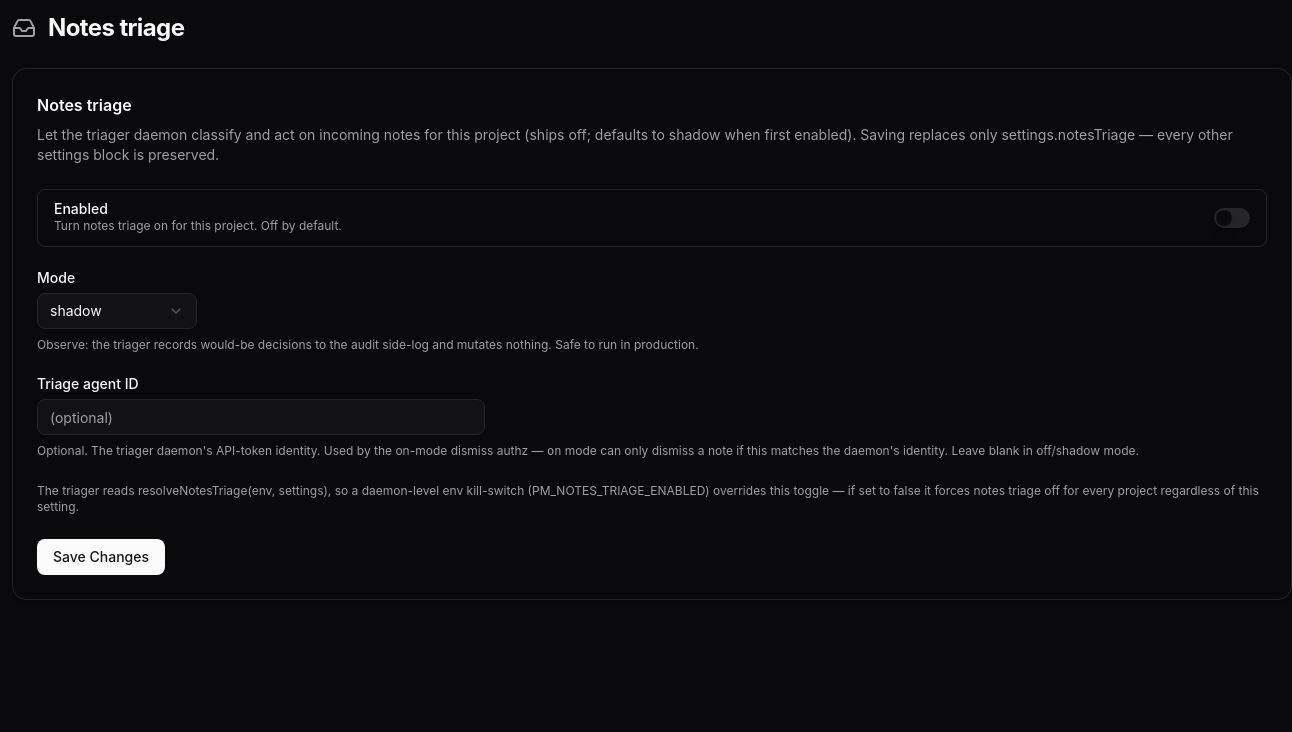
Test case: NotesTriagePage — mode select › renders off/shadow/on options and updates help text on select
The width and height of the screenshot is (1292, 732).
What coordinates should you click on to do the following:
click the dropdown named "Mode"
I would click on:
 (117, 311)
Its box is [37,293,197,329].
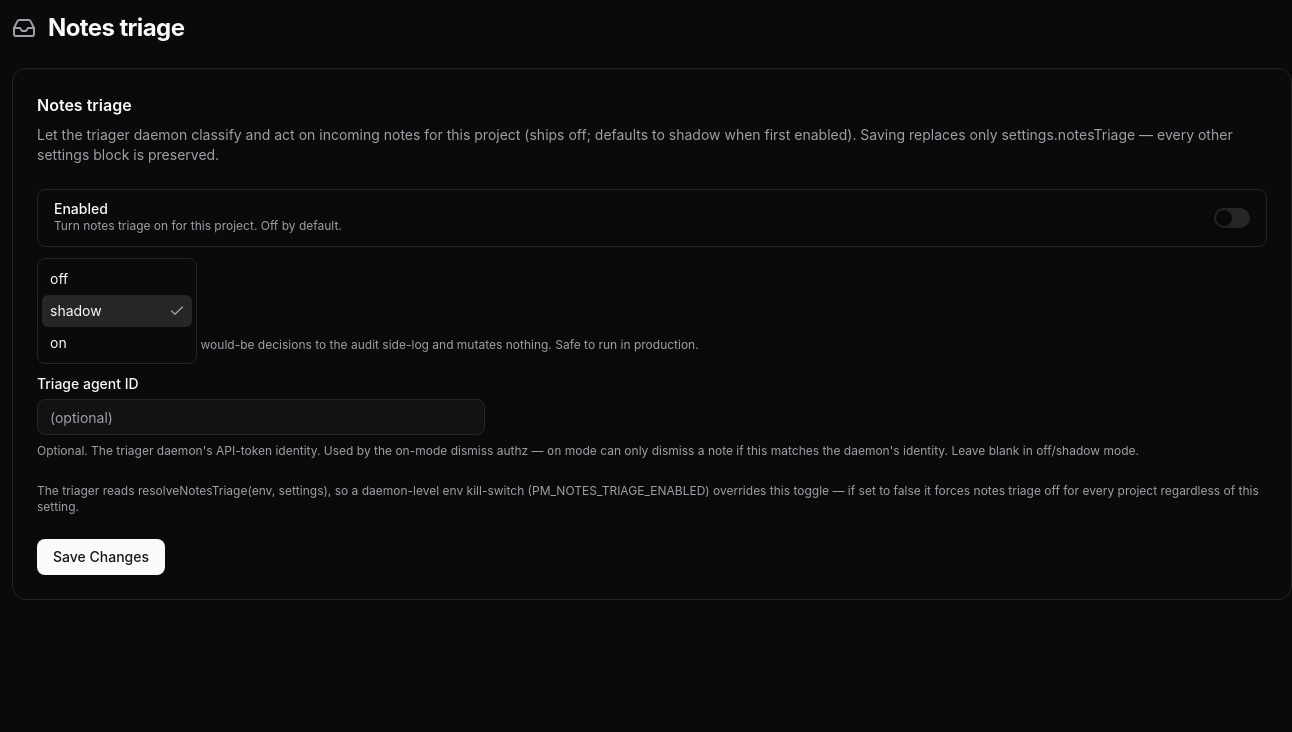
Expected: the option "off" is shown
Expected: the option "shadow" is shown, [42,295,192,327]
Expected: the option "on" is shown, [50,334,67,351]
What coordinates should you click on to do the following:
click the option "off"
I would click on:
 (59, 278)
Its box is [50,270,68,287].
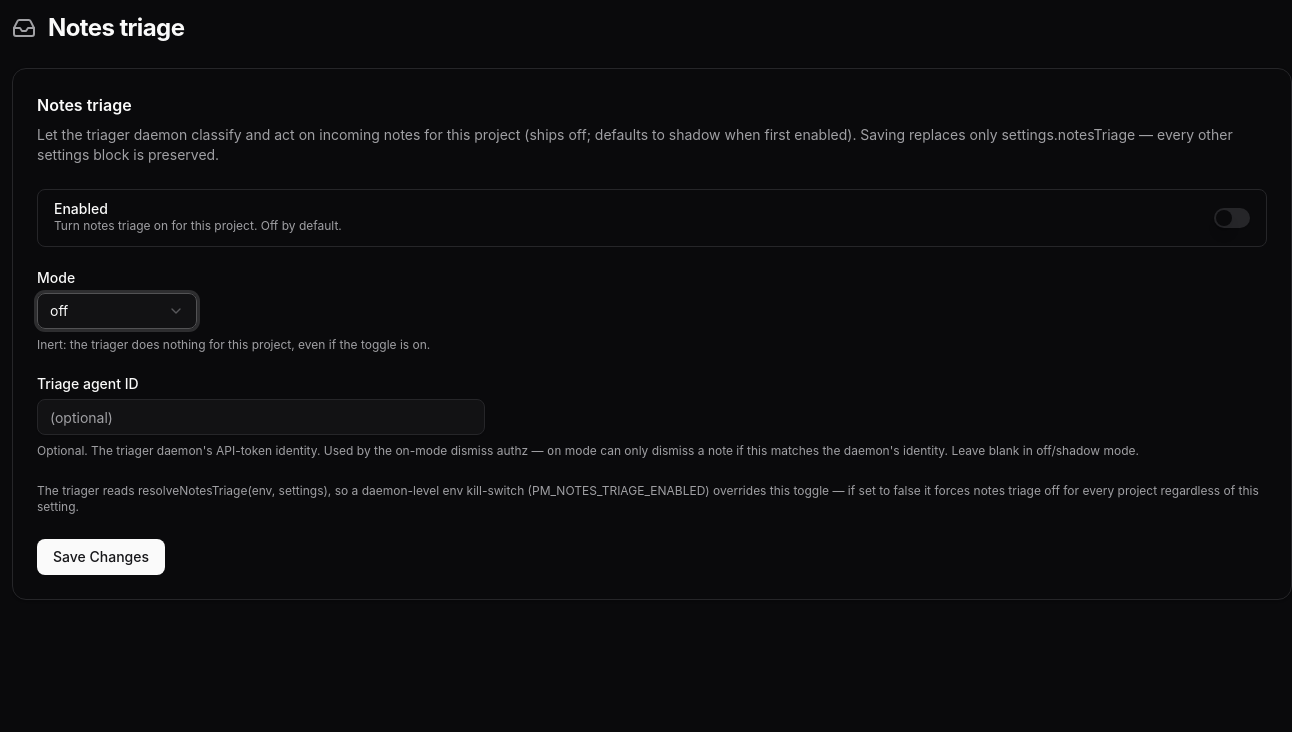
Expected: the text "Inert: the triager does nothing" is shown, [37,337,430,352]
